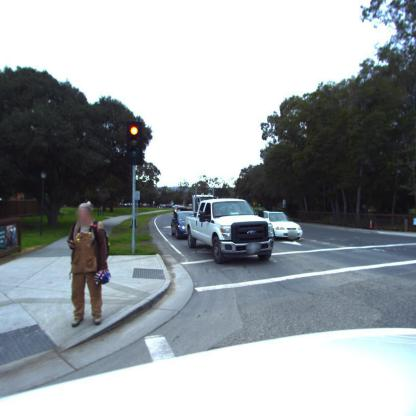car: (259, 210, 304, 241), (171, 209, 195, 239)
person: (67, 205, 111, 327)
traffic light: (127, 124, 141, 160)
truck: (184, 198, 276, 264)
